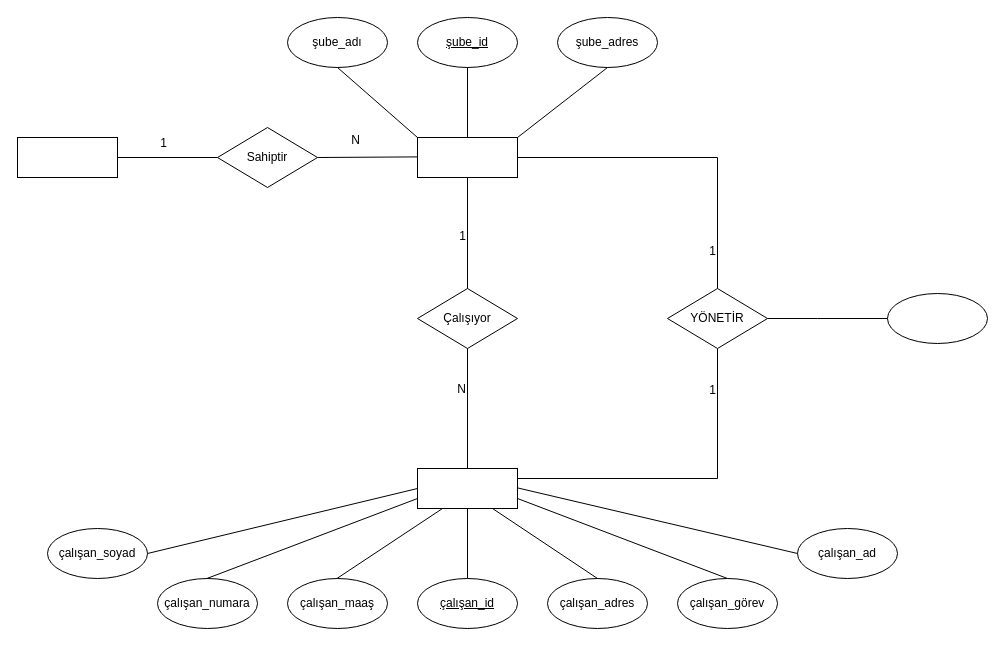
This 1005x646 diagram has some shape labels left out. The shapes that lost their labels are listed below. From the top down, each one's centre as x and y in pixels, then its label:
the point at 67,157: ŞİRKET
the point at 467,157: ŞUBE
the point at 937,318: yönetici_id
the point at 467,488: ÇALIŞAN
